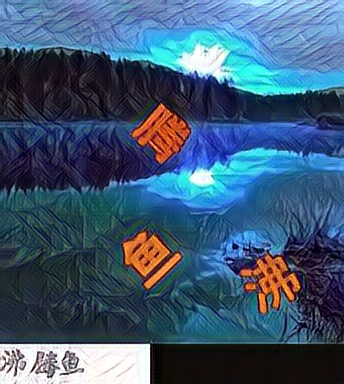B7D0: (240, 247, 303, 314)
CCDA: (128, 98, 191, 165)
D3E3: (120, 224, 183, 291)
